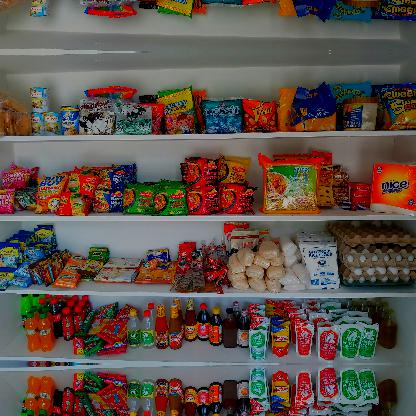Lady-s-Choice: (342, 96, 378, 130), (341, 0, 379, 9)
